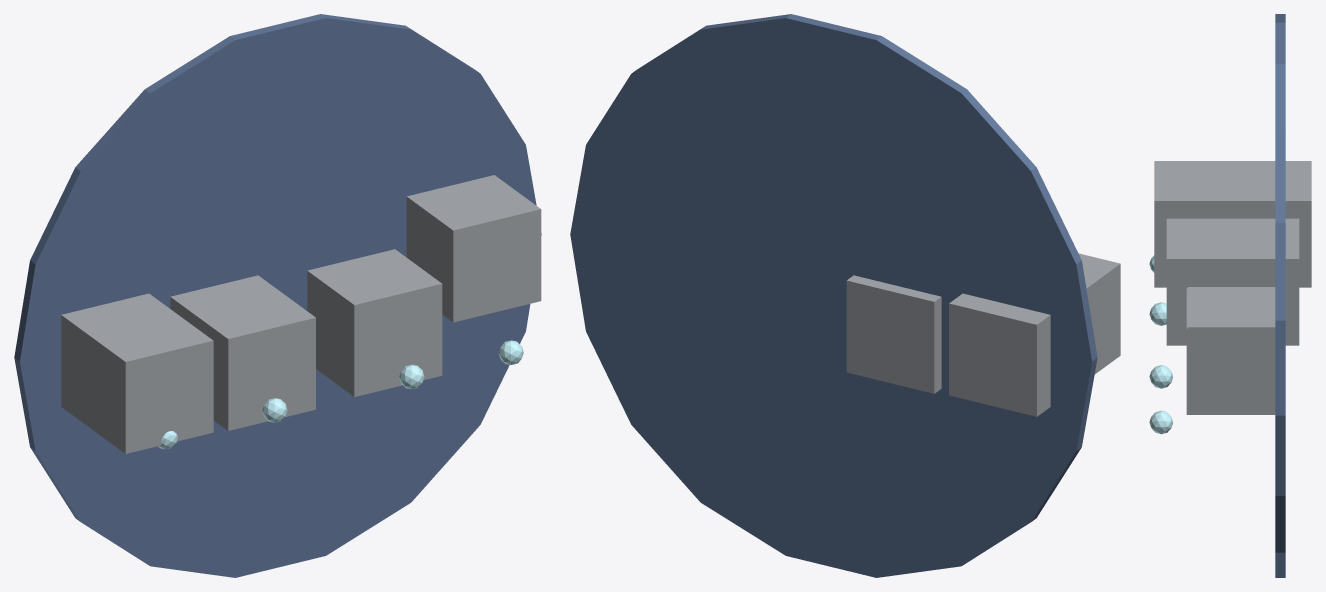
Rendered from 02_local_prop_cluster.glb.
3 renders of one model, left to right at view 1: azimuth 30°, elevation 25°; view 2: azimuth 150°, elevation 25°; view 3: azimuth 270°, elevation 25°, orthographic. The views are drawn at different scales.
Visible parts, largest first — view 1: scatter_base, tech_crate_0, tech_crate_2, tech_crate_3, tech_crate_1; view 2: scatter_base, tech_crate_0, tech_crate_1; view 3: tech_crate_3, tech_crate_1, tech_crate_0, scatter_base, status_light_3, status_light_2, tech_crate_2, status_light_1.
Boxes of the visible parts, x1,y1,x2,y2 form: scatter_base: [14, 14, 541, 577]; tech_crate_0: [61, 293, 213, 453]; tech_crate_2: [307, 249, 442, 396]; tech_crate_3: [406, 175, 541, 322]; tech_crate_1: [170, 275, 315, 430]; scatter_base: [570, 14, 1097, 577]; tech_crate_0: [949, 253, 1120, 416]; tech_crate_1: [846, 275, 941, 393]; tech_crate_3: [1187, 287, 1275, 413]; tech_crate_1: [1166, 218, 1299, 345]; tech_crate_0: [1154, 161, 1311, 287]; scatter_base: [1275, 14, 1285, 577]; status_light_3: [1149, 410, 1173, 434]; status_light_2: [1149, 365, 1172, 388]; tech_crate_2: [1186, 288, 1275, 414]; status_light_1: [1149, 302, 1166, 325].
Size of the model in its own units: 1.9 by 1.87 by 0.5441.
